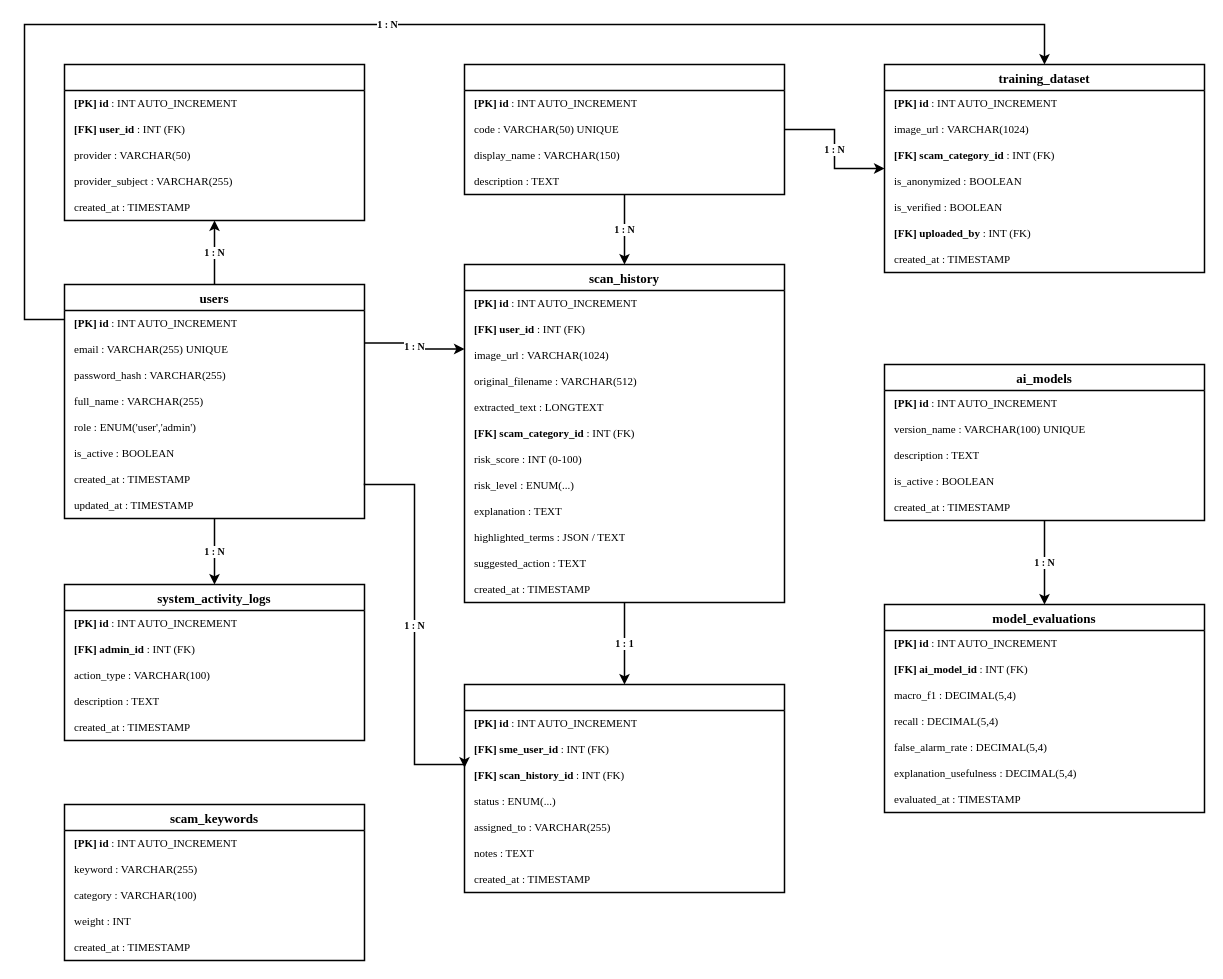
Some shapes in this 1223 by 979 pixel diagram are drawn without their labels. Here are the shapes that lost their labels. From the top down, the box of each, then its label:
(63, 63, 365, 221): auth_identities
(463, 63, 785, 195): scam_categories
(463, 683, 785, 893): incidents
